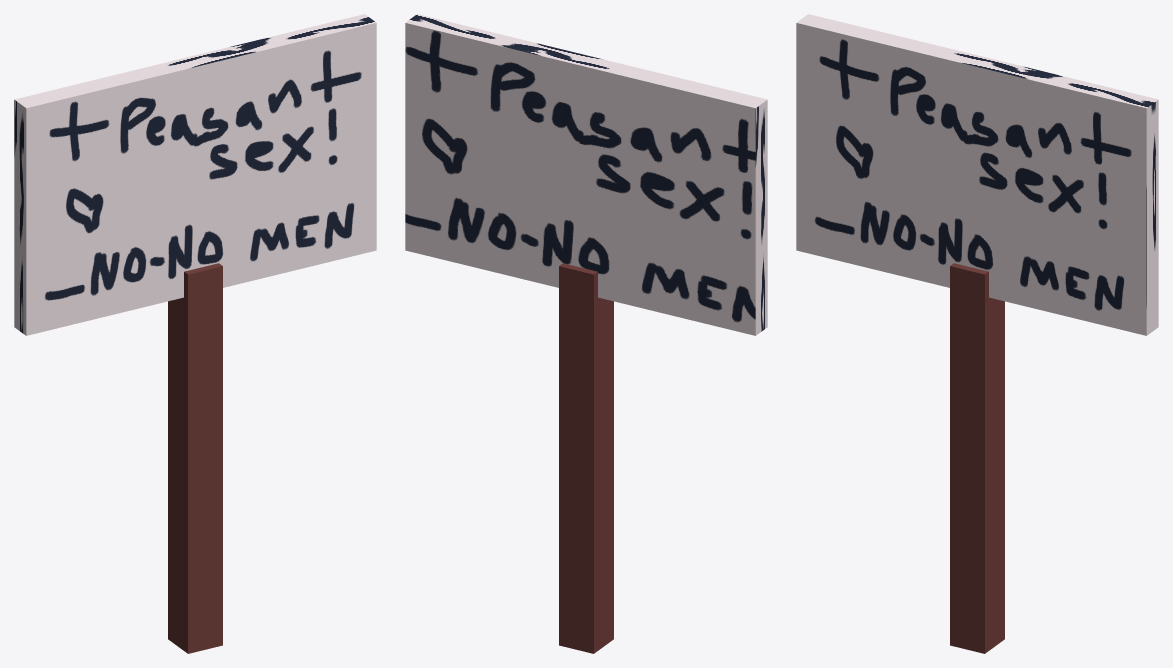
File: Sign3.glb
3 views of the same model, side by side, from view 1: azimuth 30°, elevation 25°; view 2: azimuth 150°, elevation 25°; view 3: azimuth 330°, elevation 25° (orthographic).
Visible parts, largest first — view 1: Cube.001, Cube; view 2: Cube.001, Cube; view 3: Cube.001, Cube.
Part boxes in pixels (x1,y1,x2,y2): Cube.001: (14,14,376,335); Cube: (168,263,222,653); Cube.001: (405,14,767,335); Cube: (559,263,613,653); Cube.001: (796,14,1158,335); Cube: (950,263,1004,653).
Bounding box in the file's own units: 2.85 × 4.51 × 0.2831.
Materials: 2 (2 with a texture image).
